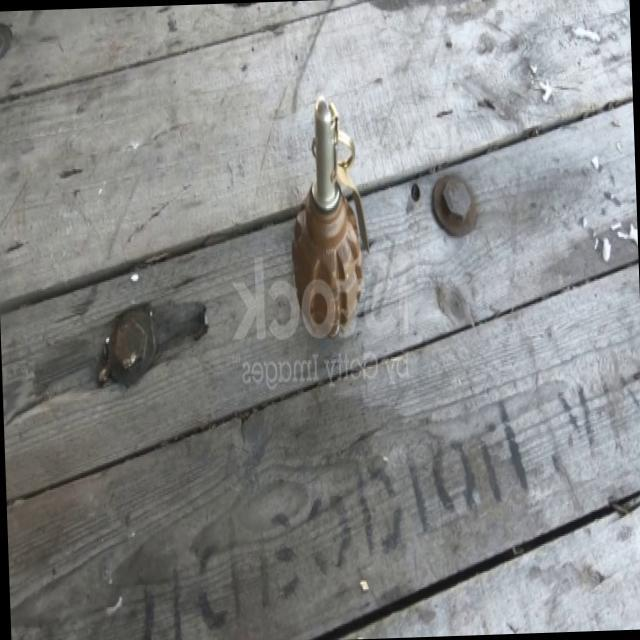grenade: (285, 83, 372, 336)
